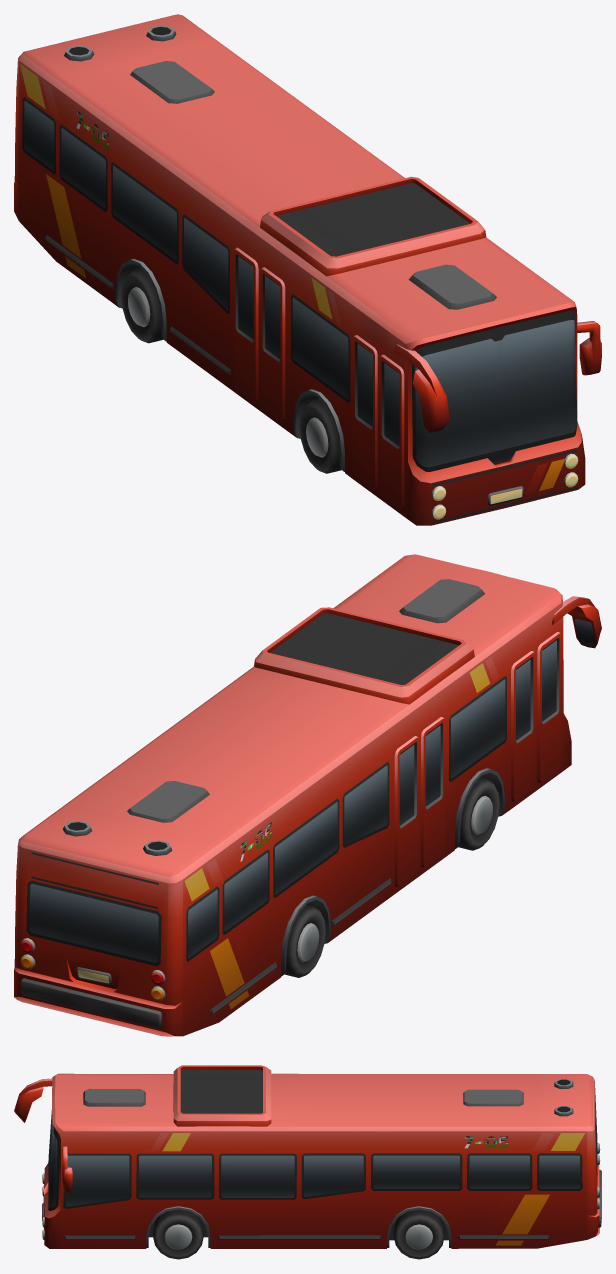
The model's file is Car_17B.fbx.
3 renders of one model, top to bottom at view 1: azimuth 30°, elevation 25°; view 2: azimuth 150°, elevation 25°; view 3: azimuth 270°, elevation 25°, orthographic. The views are drawn at different scales.
Parts seen in each view (by area): view 1: Car_17B, Wheel_17B_R.R, Wheel_17B_F.R; view 2: Car_17B, Wheel_17B_R.R, Wheel_17B_F.R; view 3: Car_17B, Wheel_17B_R.L, Wheel_17B_F.L, Livery_17B.
Boxes of the visible parts, x1,y1,x2,y2 form: Car_17B: (14,14,601,525); Wheel_17B_R.R: (121,268,163,343); Wheel_17B_F.R: (299,398,341,473); Car_17B: (14,554,601,1036); Wheel_17B_R.R: (284,904,325,977); Wheel_17B_F.R: (458,777,499,850); Car_17B: (14,1065,601,1248); Wheel_17B_R.L: (393,1209,444,1259); Wheel_17B_F.L: (153,1209,203,1259); Livery_17B: (464,1136,508,1148).
Size of the model in its own units: 103 by 98.64 by 373.
